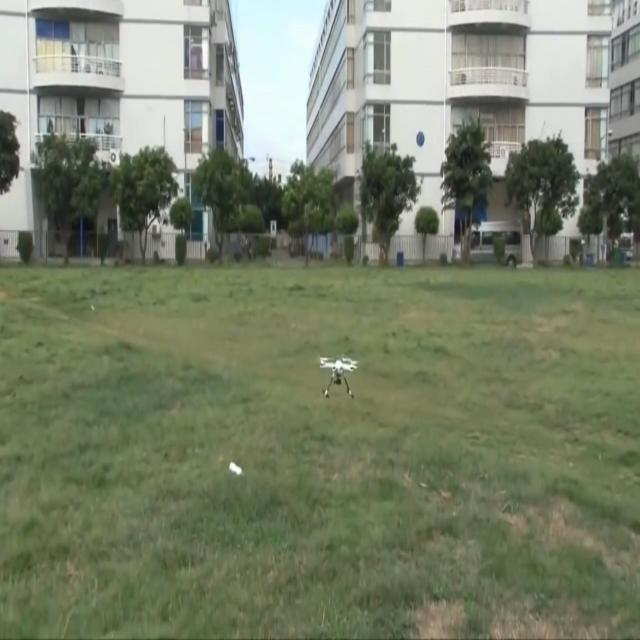drone: (319, 354, 358, 399)
